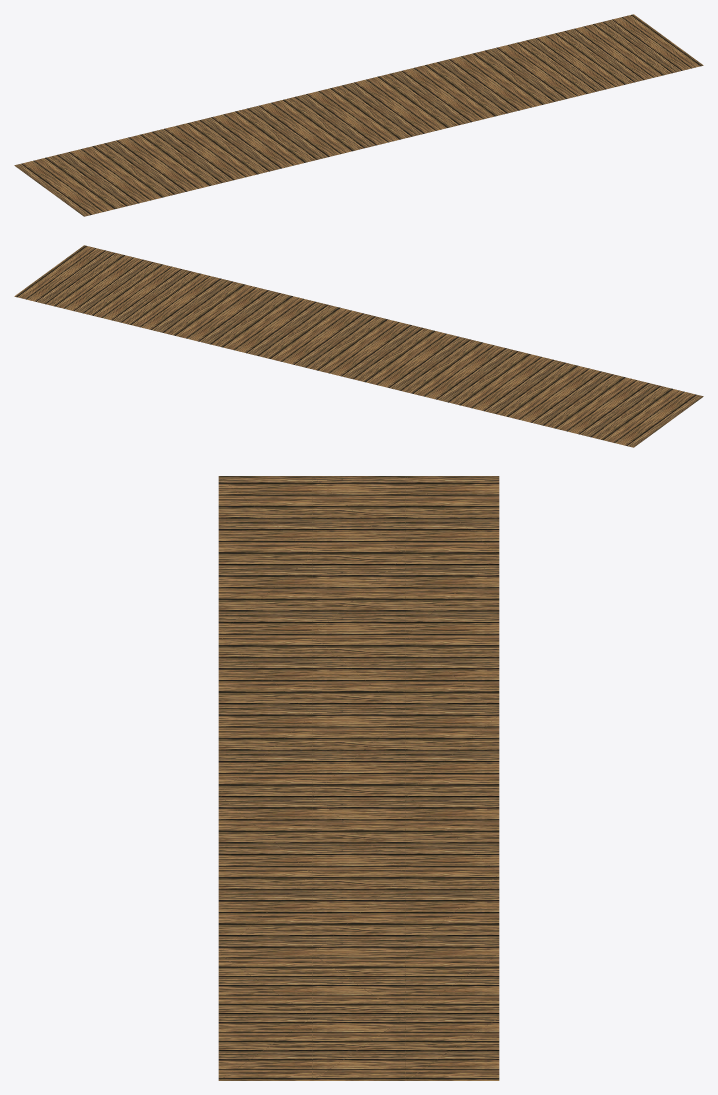
The model's file is LAKETOWN_EXTERIOR_PS_LT_PIER_WOOD11.fbx.
3 renders of one model, top to bottom at view 1: azimuth 30°, elevation 25°; view 2: azimuth 150°, elevation 25°; view 3: azimuth 270°, elevation 25°, orthographic. The views are drawn at different scales.
Visible parts, largest first — view 1: LAKETOWN_EXTERIOR_PS_LT_PIER_WOOD11; view 2: LAKETOWN_EXTERIOR_PS_LT_PIER_WOOD11; view 3: LAKETOWN_EXTERIOR_PS_LT_PIER_WOOD11.
Boxes of the visible parts, x1,y1,x2,y2 form: LAKETOWN_EXTERIOR_PS_LT_PIER_WOOD11: [14, 14, 703, 216]; LAKETOWN_EXTERIOR_PS_LT_PIER_WOOD11: [14, 245, 703, 447]; LAKETOWN_EXTERIOR_PS_LT_PIER_WOOD11: [218, 476, 499, 1080].
Bounding box in the file's own units: 254605 × 0.0123 × 49936.
1 material, 1 textured.
